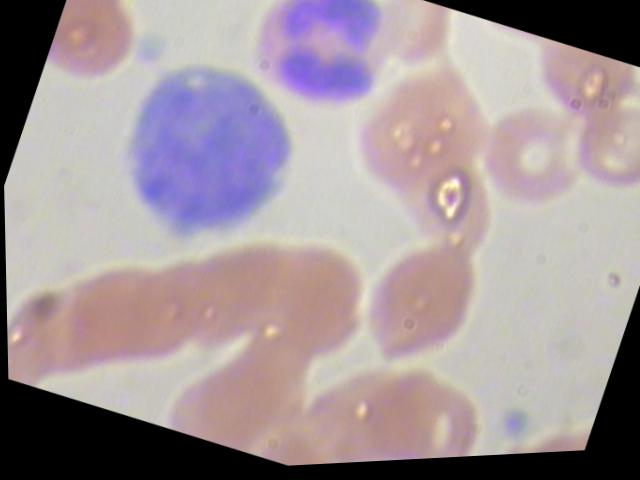Platelets: (125, 21, 176, 76), (491, 402, 542, 457)
Red Blood Cells: (344, 212, 519, 396), (336, 69, 486, 225), (450, 91, 594, 244), (200, 321, 327, 457), (97, 242, 218, 380), (155, 230, 276, 367), (50, 248, 170, 386), (15, 255, 134, 393), (34, 0, 154, 120), (514, 38, 639, 152), (554, 86, 639, 238), (340, 361, 456, 465), (5, 273, 93, 398), (389, 374, 496, 463), (58, 0, 163, 47)
White Blood Cells: (91, 38, 337, 281), (227, 0, 414, 131)
